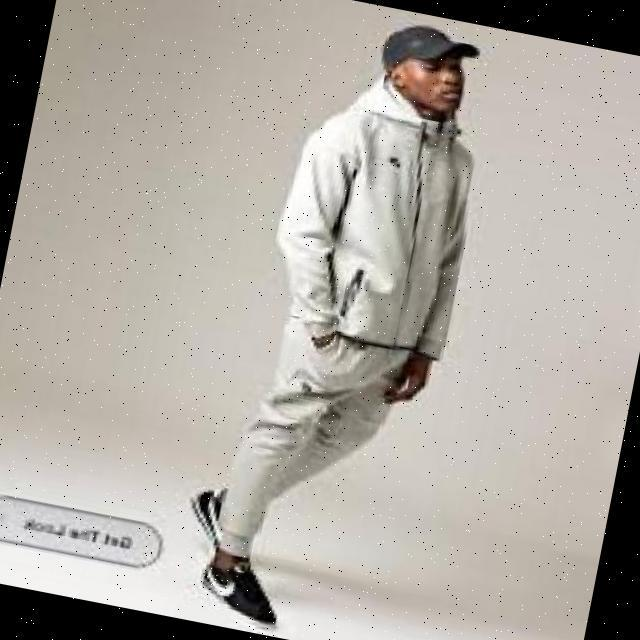Nike: (199, 565, 245, 596)
